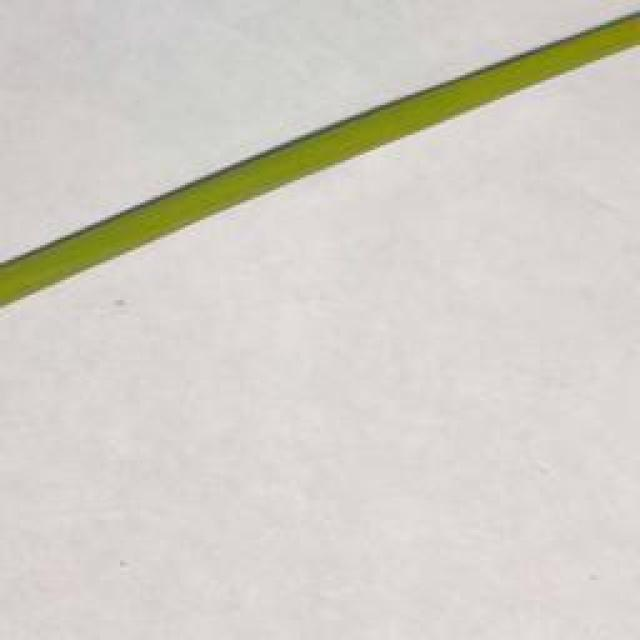Healthy-Plant: (0, 11, 640, 312)
